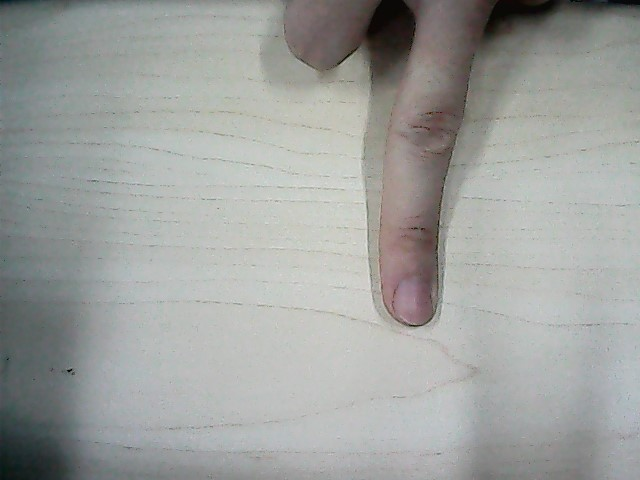nail: (392, 280, 436, 327)
